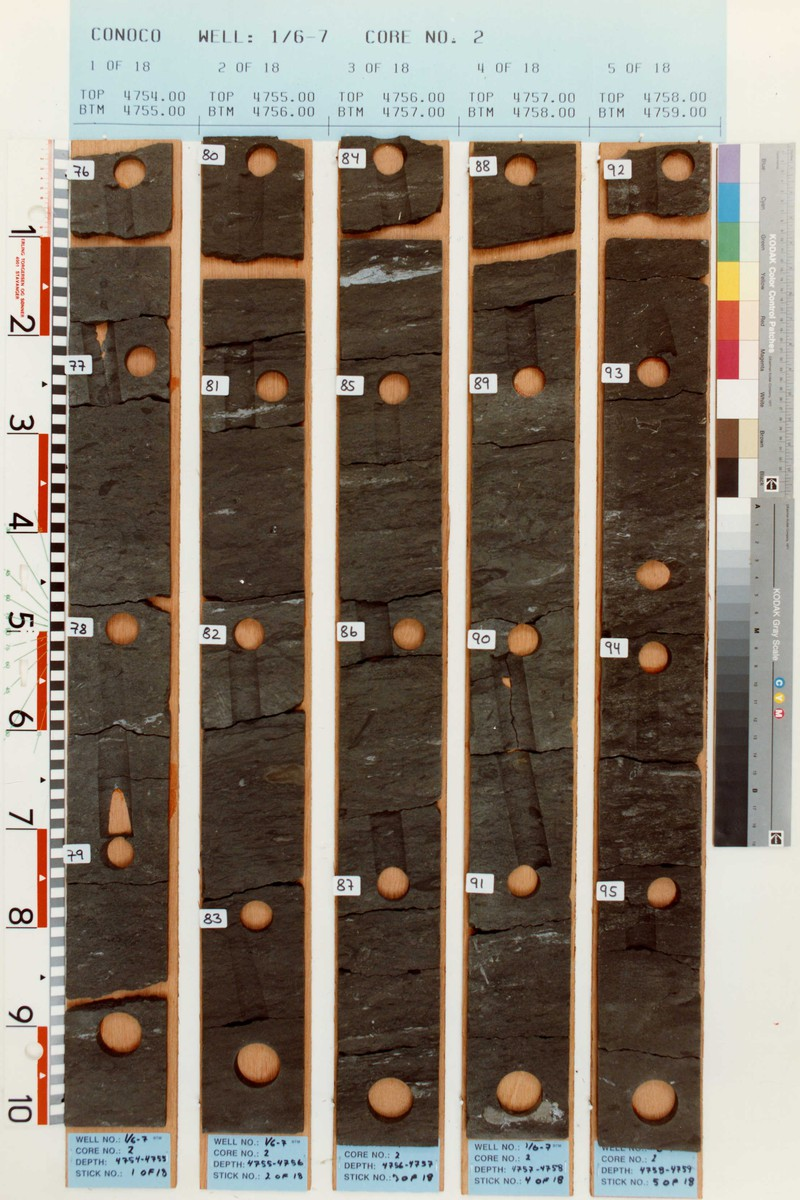core: (458, 140, 579, 1142), (595, 141, 703, 1152), (337, 132, 444, 1146), (202, 136, 310, 1131), (70, 143, 172, 1129)
